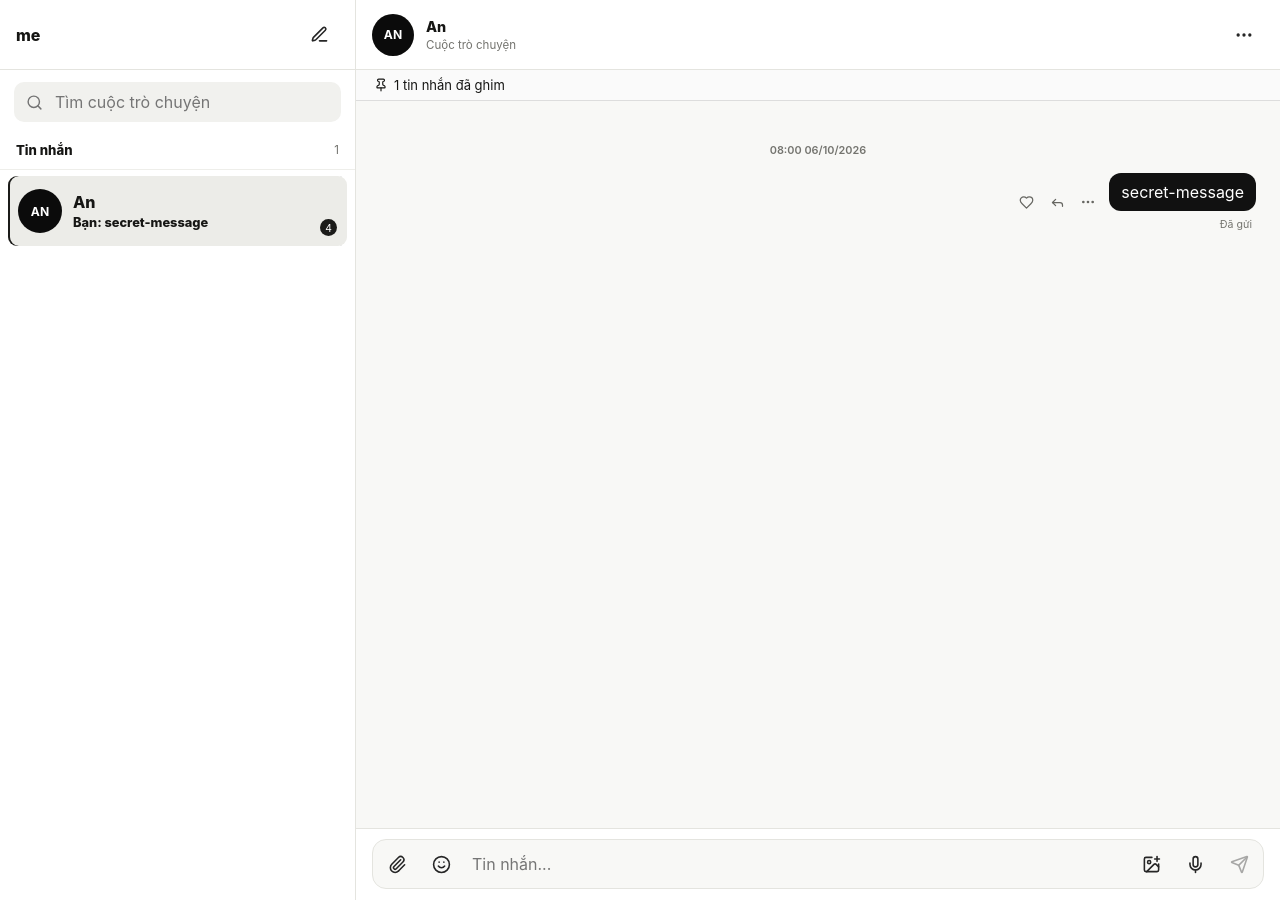
Test: full message action parity › respects server pin permissions and applies collection changes without new-message cursors
The width and height of the screenshot is (1280, 900).
Click the button "1 tin nhắn đã ghim". click: (439, 85)
box: [368, 76, 511, 94]
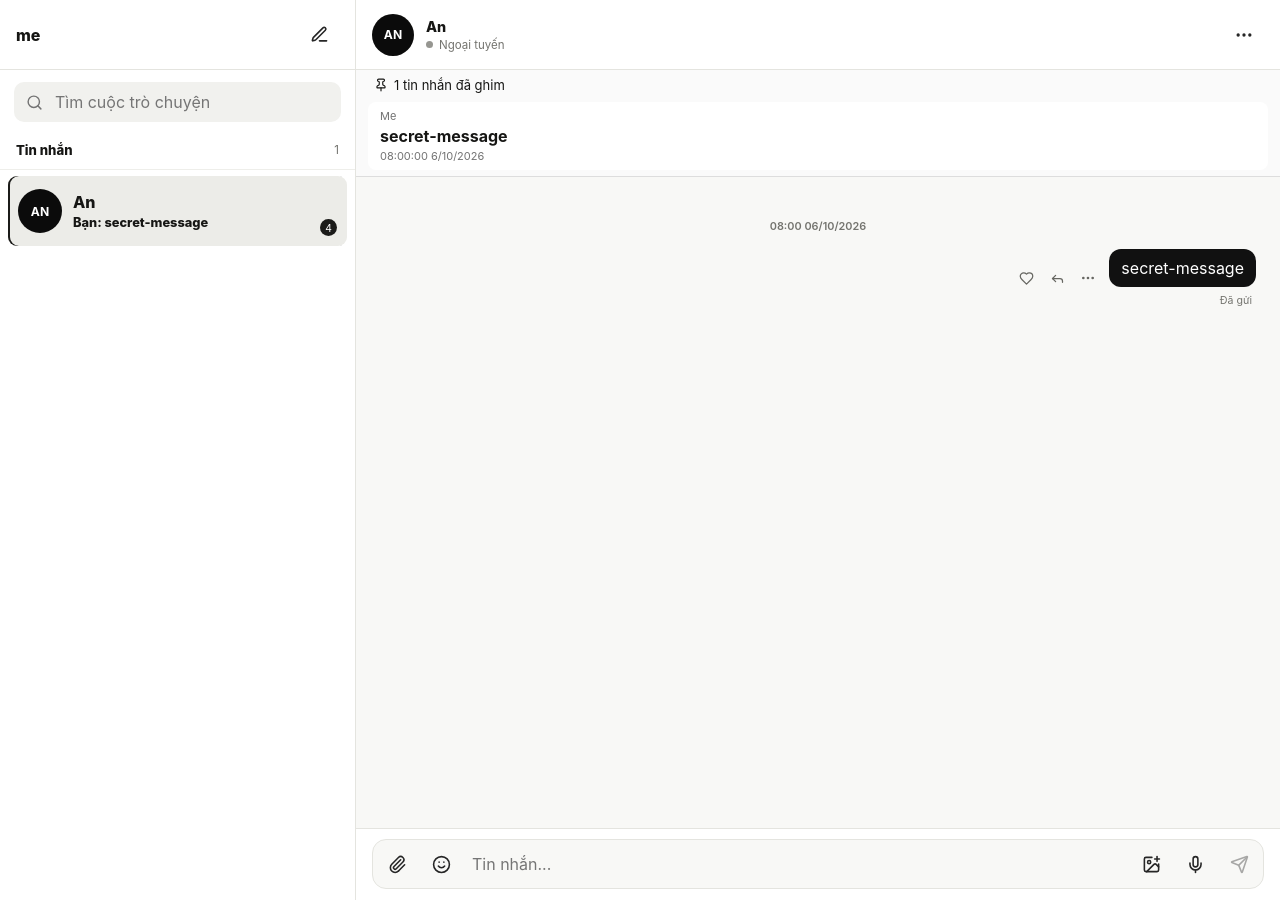
Click the button named "Thao tác khác". click: (1088, 278)
box: [1073, 263, 1103, 293]
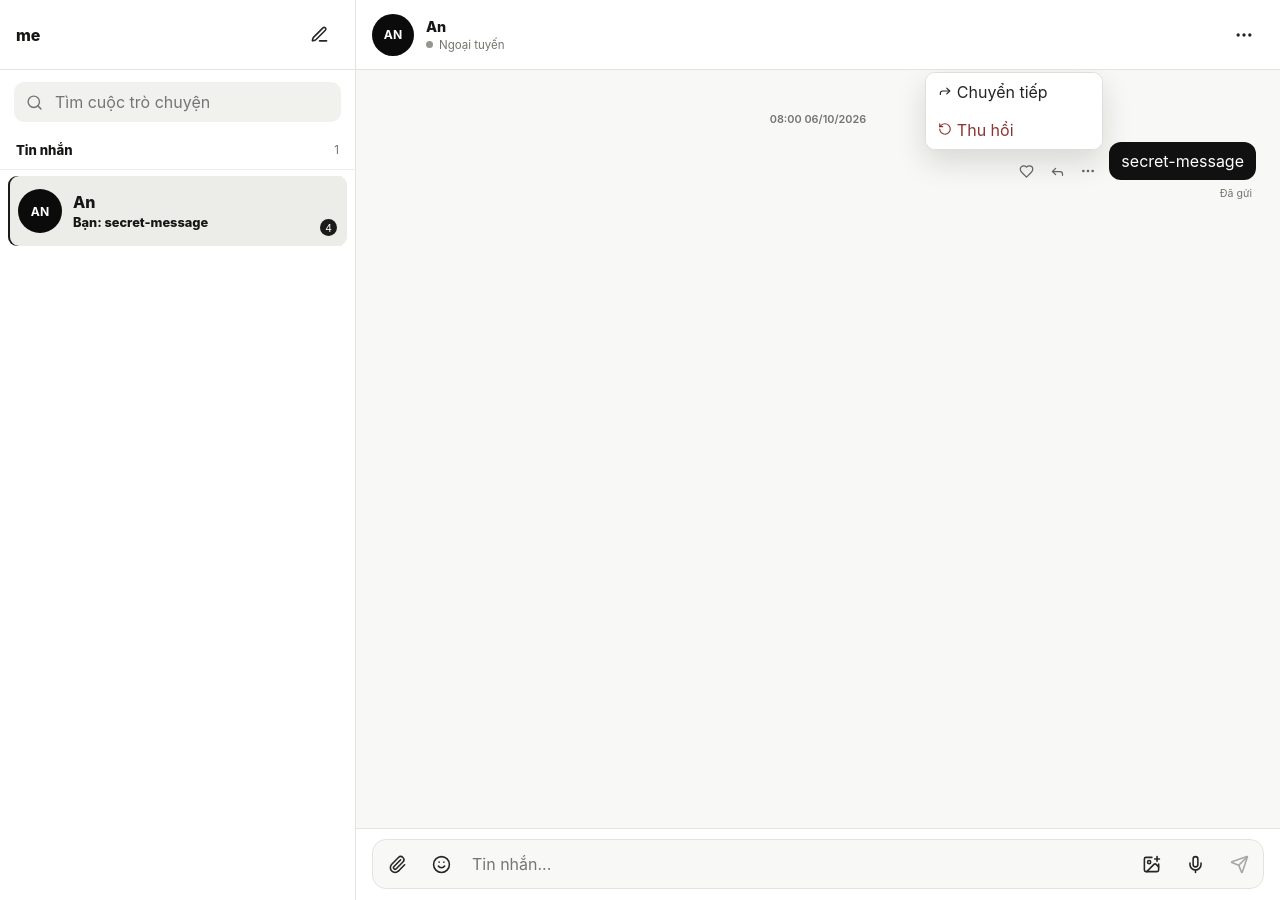
Now the button "1 tin nhắn đã ghim" is gone
